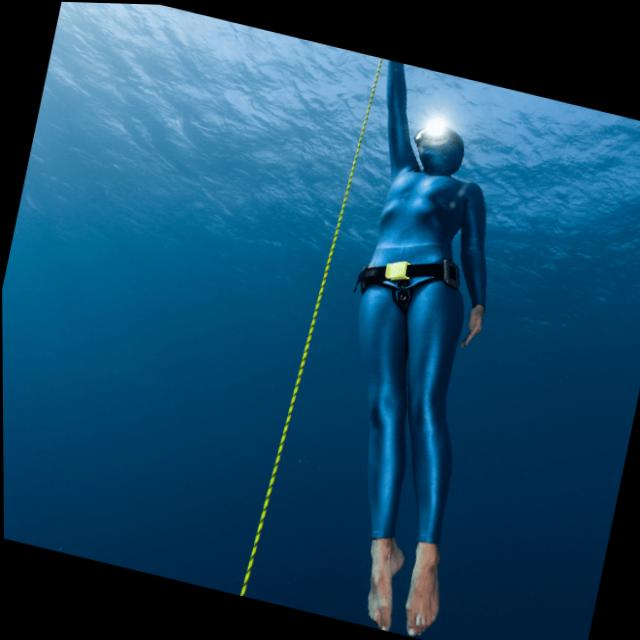human: (244, 48, 557, 640)
